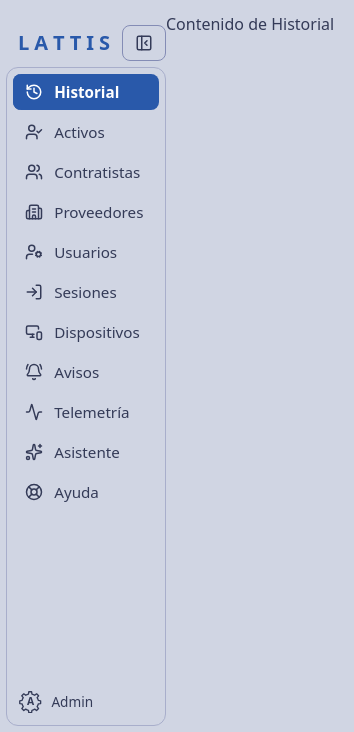
Test case: App -- navegación entre secciones › sólo la sección activa queda visible -- las demás quedan ocultas con la clase hidden
The image size is (354, 732).
Expected: the text "Contenido de Historial" is shown, [166, 13, 334, 35]
Click the link "Usuarios": (71, 252) [25, 242, 117, 262]
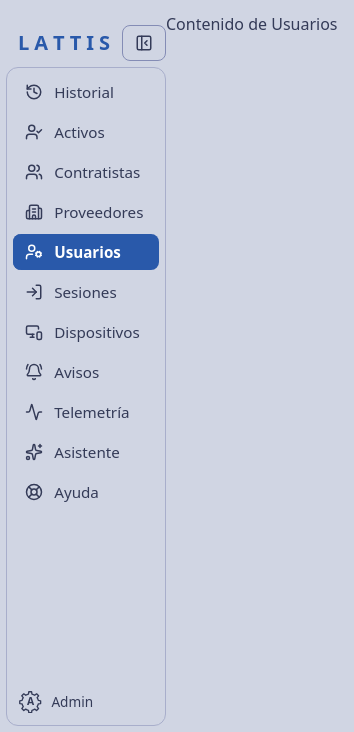
Now the text "Contenido de Usuarios" is shown, box [166, 13, 338, 35]
